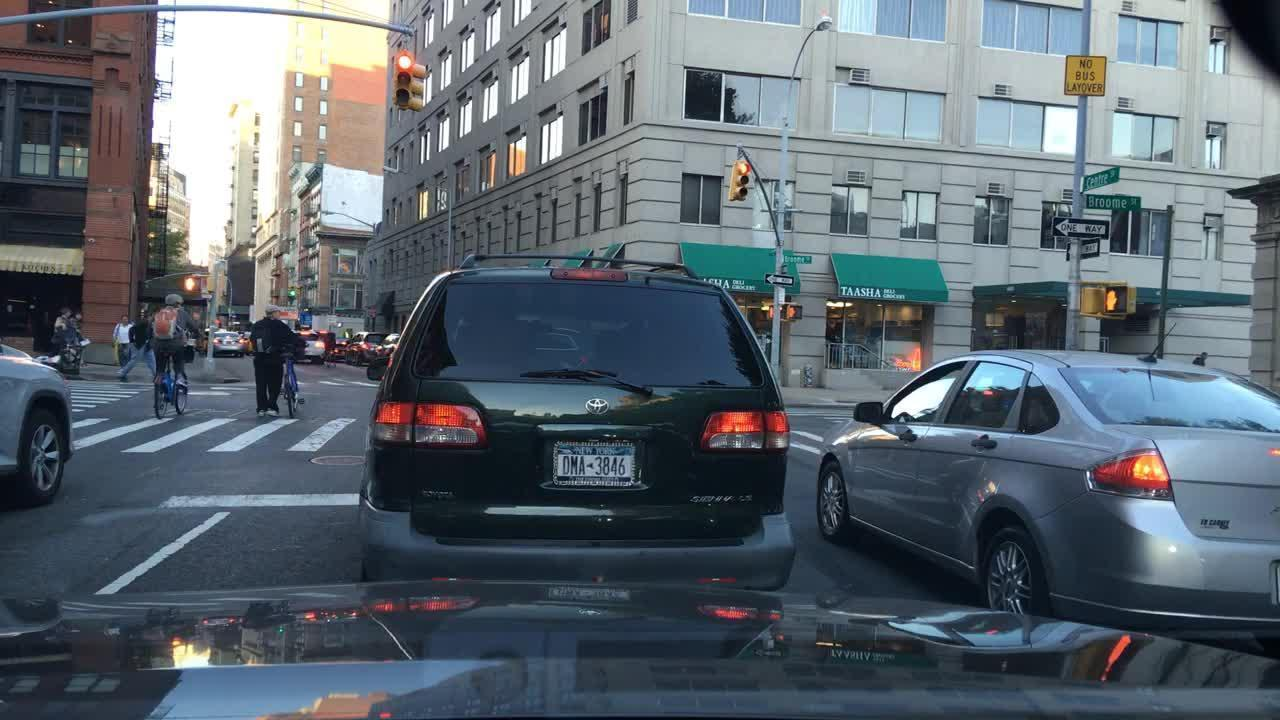Toyota: (584, 396, 616, 421)
